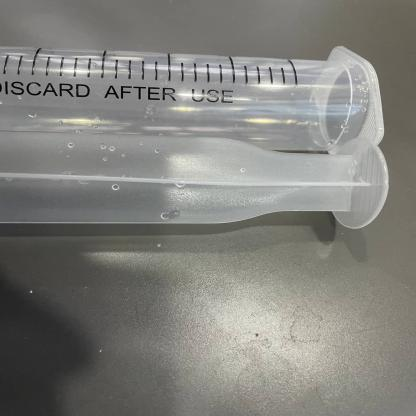wet: (1, 37, 389, 147), (4, 130, 390, 240)
